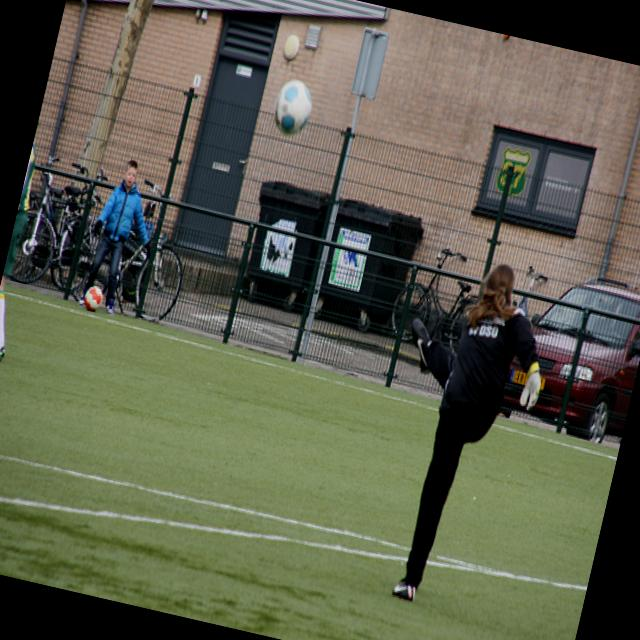Vehicle: (508, 269, 640, 452)
